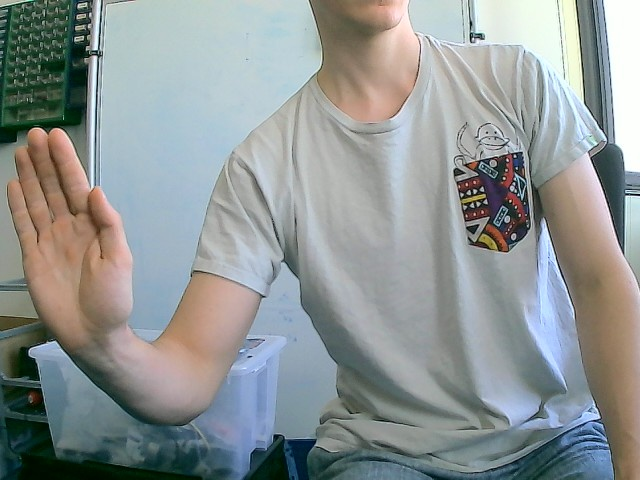stop: (6, 125, 135, 356)
